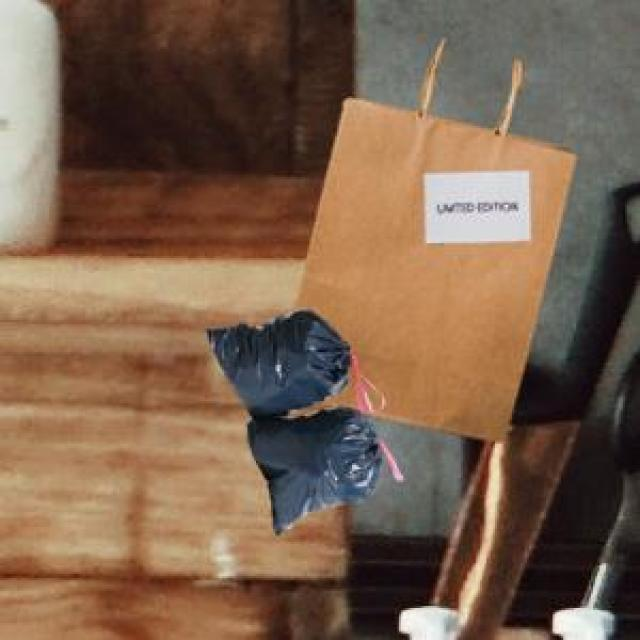miscellaneous trash: (203, 305, 399, 531)
paper: (292, 38, 572, 437)
